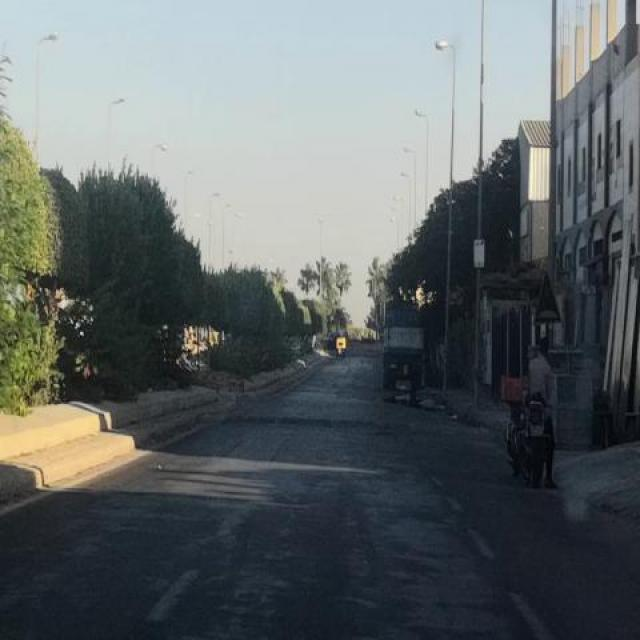Unmarked Bump: (209, 413, 404, 432)
